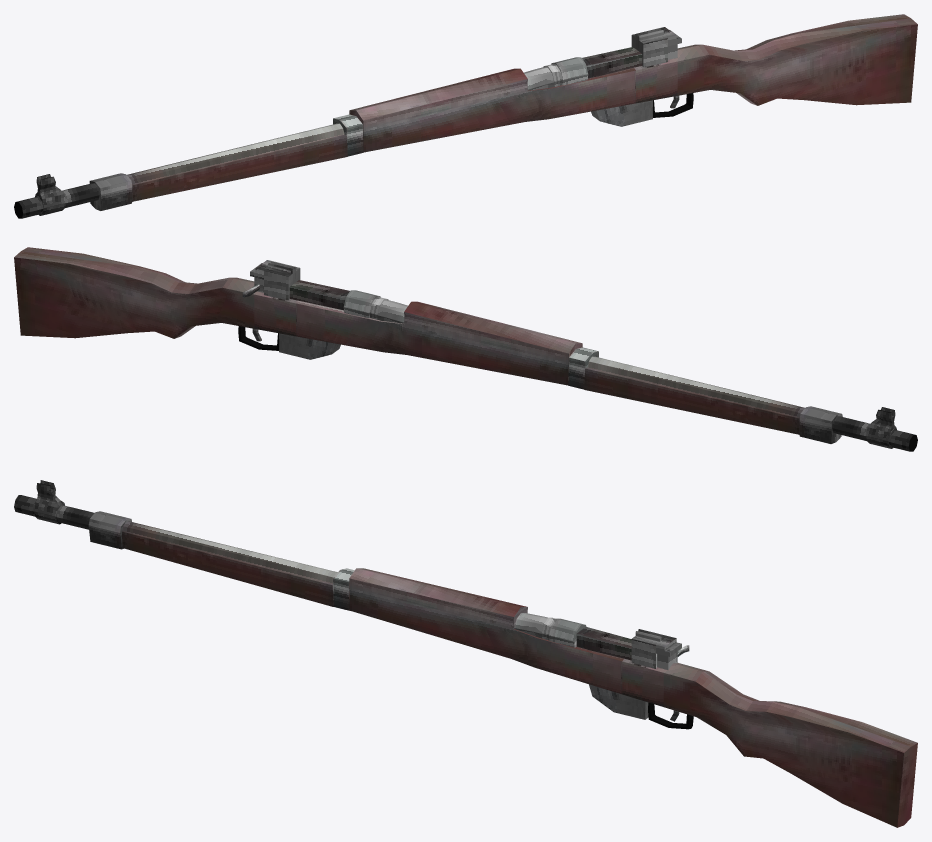
File: shop-item-1075.glb
3 renders of one model, top to bottom at view 1: azimuth 30°, elevation 25°; view 2: azimuth 150°, elevation 25°; view 3: azimuth 330°, elevation 25°, orthographic.
Visible parts, largest first — view 1: body, tip, barrel, upsideConnector, rearsight, rearsightFront, tipConnector, clip, aim, connector; view 2: body, tip, barrel, upsideConnector, rearsight, tipConnector, rearsightFront, clip, aim, connector; view 3: body, tip, barrel, rearsight, upsideConnector, rearsightFront, tipConnector, clip, aim.
Part boxes in pixels (bbox=[...]): body: bbox=[349, 14, 917, 152]; tip: bbox=[132, 134, 347, 201]; barrel: bbox=[14, 123, 344, 218]; upsideConnector: bbox=[524, 57, 588, 90]; rearsight: bbox=[631, 27, 681, 67]; rearsightFront: bbox=[582, 47, 642, 78]; tipConnector: bbox=[89, 173, 132, 210]; clip: bbox=[591, 100, 652, 126]; aim: bbox=[35, 174, 65, 215]; connector: bbox=[333, 114, 363, 156]; body: bbox=[14, 247, 582, 385]; tip: bbox=[584, 367, 799, 434]; barrel: bbox=[587, 356, 917, 451]; upsideConnector: bbox=[343, 290, 407, 323]; rearsight: bbox=[250, 260, 300, 300]; tipConnector: bbox=[799, 406, 842, 443]; rearsightFront: bbox=[289, 280, 349, 310]; clip: bbox=[279, 333, 340, 359]; aim: bbox=[866, 407, 896, 448]; connector: bbox=[568, 347, 598, 389]; body: bbox=[349, 568, 917, 827]; tip: bbox=[121, 531, 333, 606]; barrel: bbox=[14, 495, 337, 583]; rearsight: bbox=[631, 629, 681, 669]; upsideConnector: bbox=[514, 613, 586, 647]; rearsightFront: bbox=[576, 627, 631, 660]; tipConnector: bbox=[88, 511, 131, 549]; clip: bbox=[589, 684, 648, 719]; aim: bbox=[34, 480, 64, 524].
Size of the model in its own units: 1.22 by 0.1728 by 0.0589.
1 material, 1 textured.
